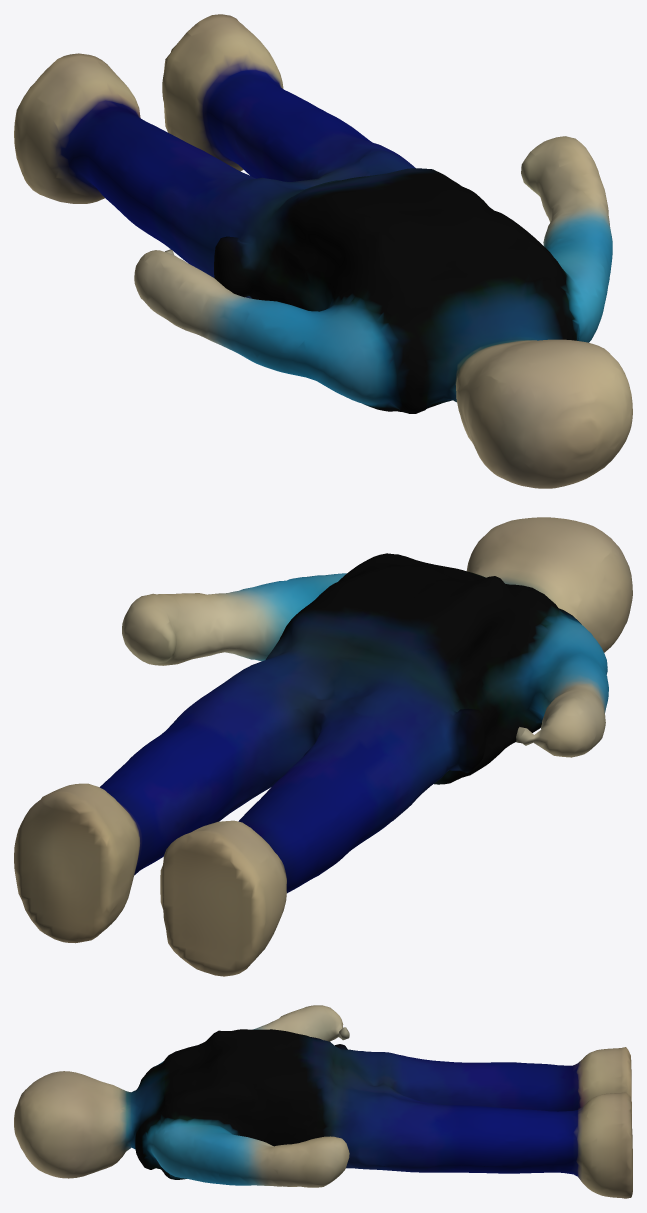
The model's file is grandfather.glb.
3 views of the same model, one above another, from view 1: azimuth 30°, elevation 25°; view 2: azimuth 150°, elevation 25°; view 3: azimuth 270°, elevation 25° (orthographic). The views are drawn at different scales.
Bounding box in the file's own units: 0.583 × 0.2184 × 0.9996.
